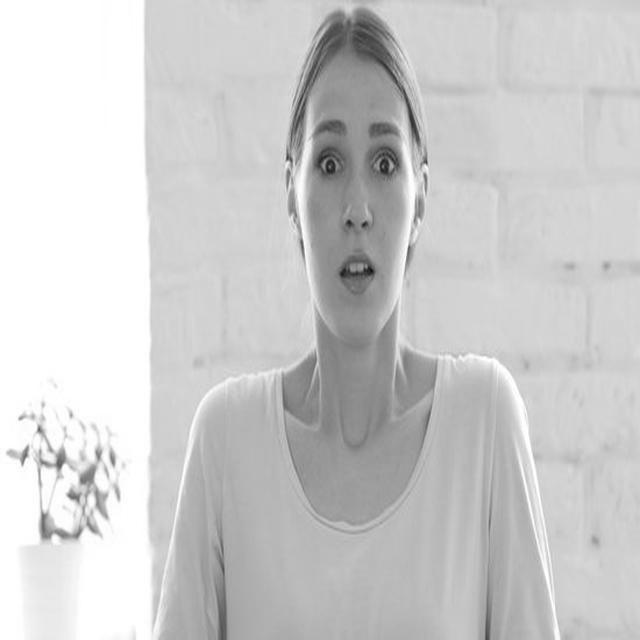Fear: (301, 52, 414, 344)
